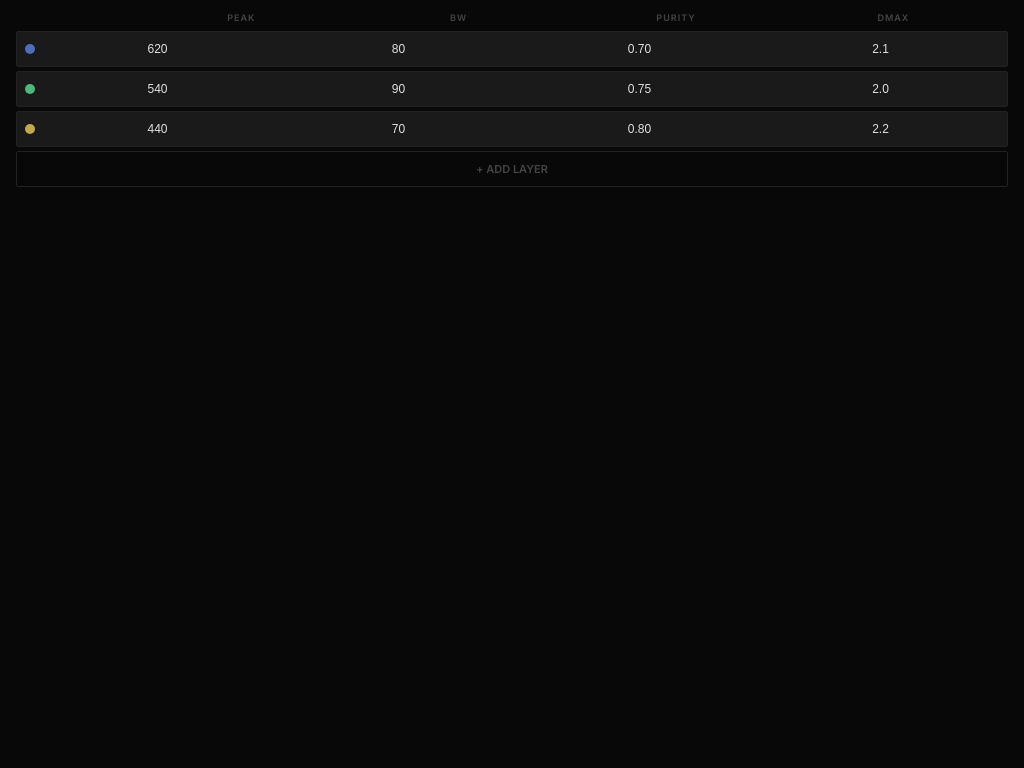
Test: tapping a layer row expands controls
Step 1. Click the button named "expand layer" → [30, 49], box top-left (16, 31), bottom-right (1008, 67)
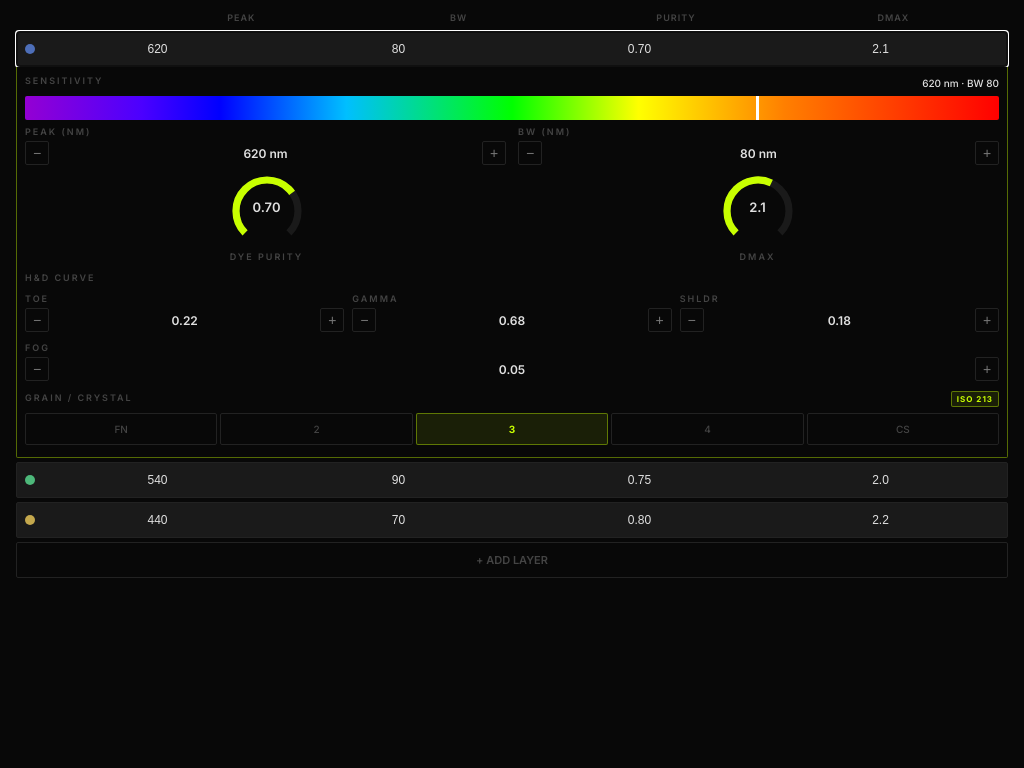
Expected: the text "SENSITIVITY" is shown, top-left (25, 75), bottom-right (103, 86)
